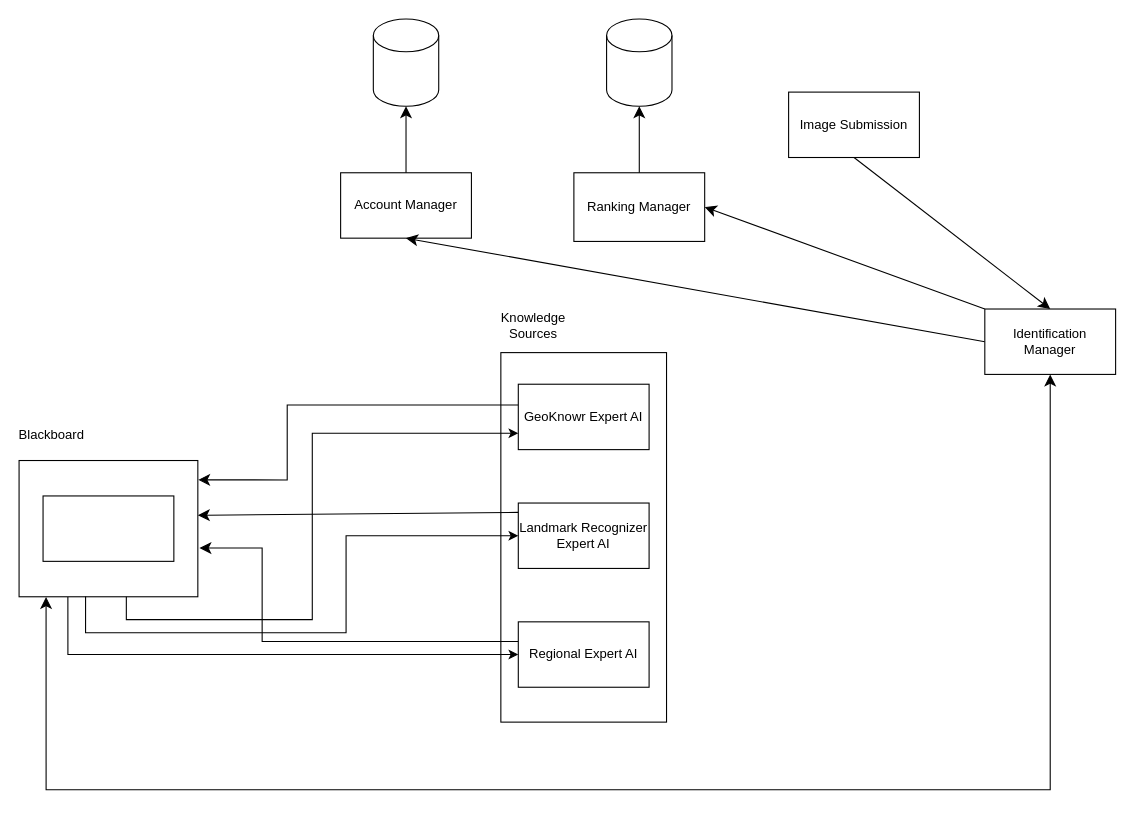
This 1135x821 diagram has some shape labels left out. Each missing label, with the centre of its shape:
Orchestrator: the point at 108,528
User DB: the point at 405,62
User Ranking DB: the point at 638,62
